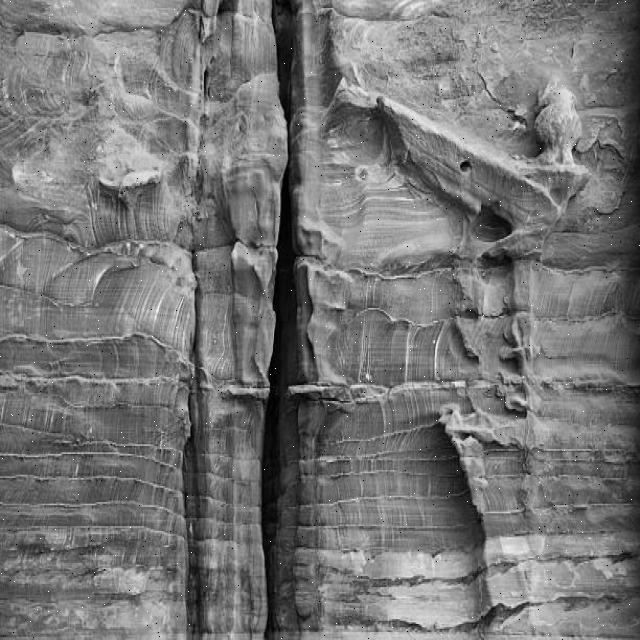Sedimentary: (293, 3, 640, 635), (1, 1, 287, 640)
